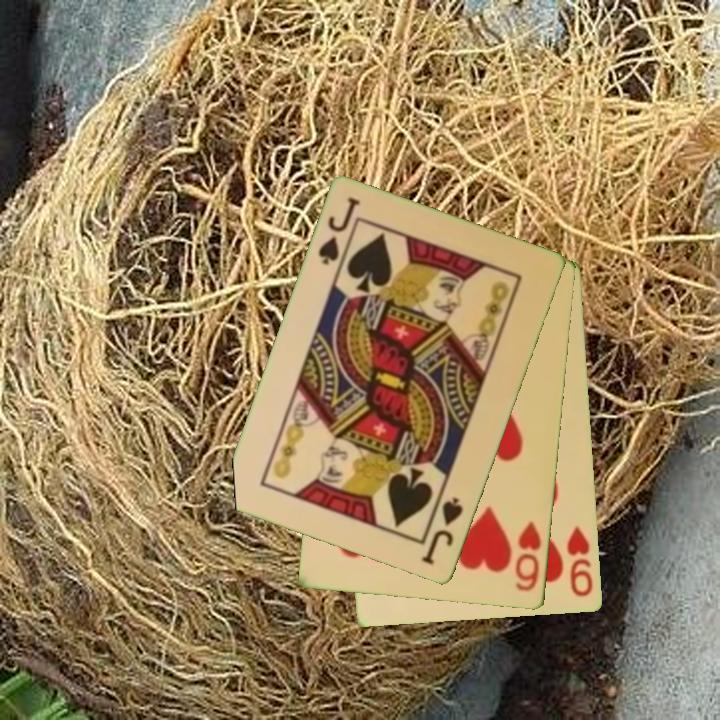6h: (512, 518, 545, 595)
9h: (564, 523, 596, 600)
Js: (314, 194, 364, 274), (418, 494, 466, 568)
